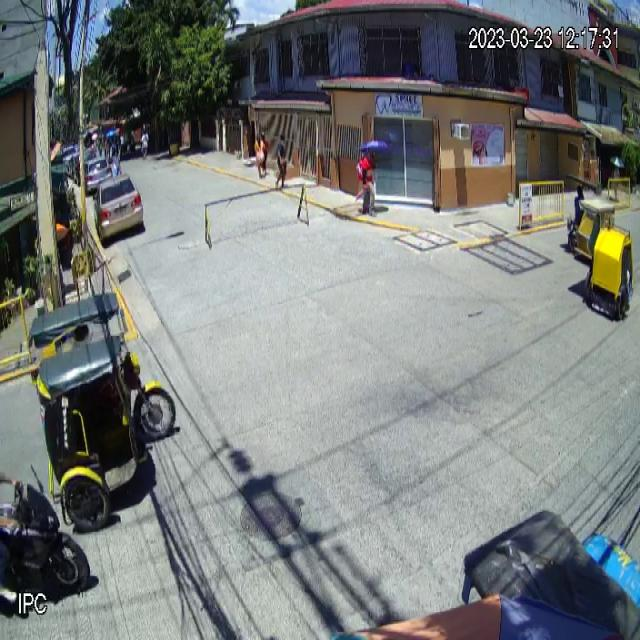Car: (92, 174, 144, 242)
Tricycle: (30, 293, 176, 529), (578, 198, 635, 326)
